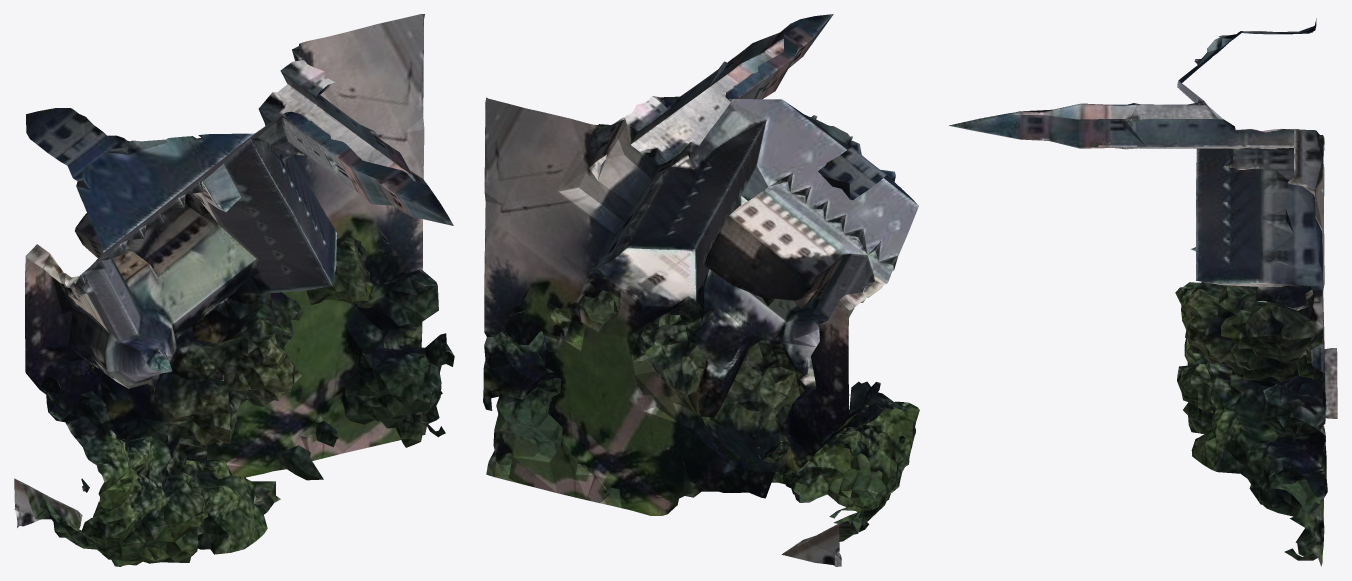
The model's file is Tile_+031_+023_L18_00011.obj.
3 renders of one model, left to right at view 1: azimuth 30°, elevation 25°; view 2: azimuth 150°, elevation 25°; view 3: azimuth 270°, elevation 25°, orthographic. The views are drawn at different scales.
Size of the model in its own units: 63 by 63 by 58.99.
Materials: 1 (1 with a texture image).
